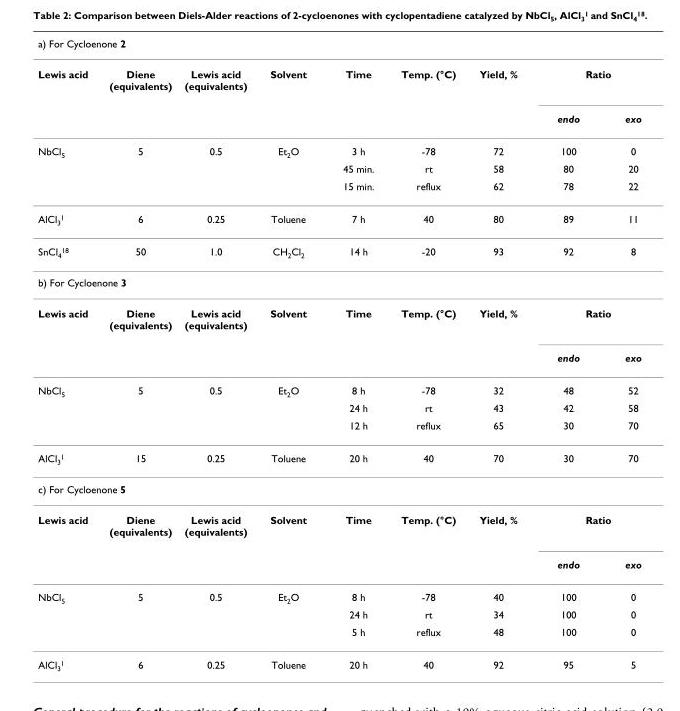table: (37, 36, 640, 671)
table column: (97, 36, 177, 671), (177, 36, 257, 671), (386, 36, 466, 671), (466, 36, 536, 671), (257, 36, 324, 671), (536, 36, 601, 671), (324, 36, 386, 671), (37, 36, 97, 671), (601, 36, 640, 671)
table column header: (37, 36, 640, 134)
table projected row header: (37, 473, 640, 504), (37, 267, 640, 297)
table row: (37, 297, 640, 341), (37, 58, 640, 101), (37, 504, 640, 547), (37, 101, 640, 134), (37, 202, 640, 235), (37, 547, 640, 580), (37, 235, 640, 267), (37, 341, 640, 373), (37, 441, 640, 473), (37, 473, 640, 504), (37, 267, 640, 297), (37, 134, 640, 160), (37, 176, 640, 202), (37, 373, 640, 399), (37, 580, 640, 606), (37, 416, 640, 441), (37, 622, 640, 647), (37, 647, 640, 671), (37, 36, 640, 58), (37, 399, 640, 416), (37, 160, 640, 176), (37, 606, 640, 622)
table spanning cell: (37, 36, 640, 58), (97, 58, 177, 134), (177, 58, 257, 134), (386, 58, 466, 134), (466, 58, 536, 134), (257, 58, 324, 134), (324, 58, 386, 134), (536, 297, 640, 341), (37, 58, 97, 134), (37, 297, 97, 373), (37, 504, 97, 580), (536, 58, 640, 101), (536, 504, 640, 547), (37, 134, 97, 202), (37, 373, 97, 441), (37, 580, 97, 647)
